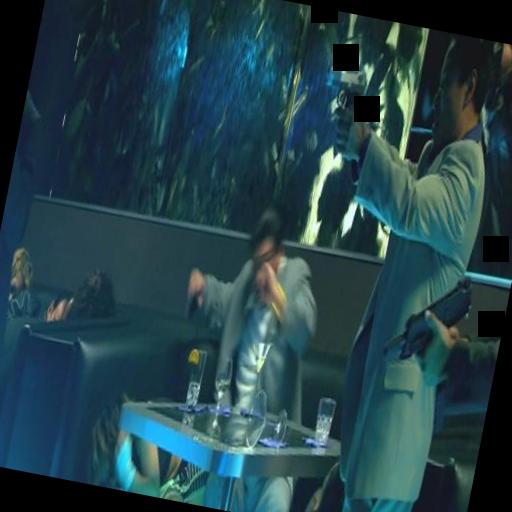Handgun: (315, 61, 368, 163)
